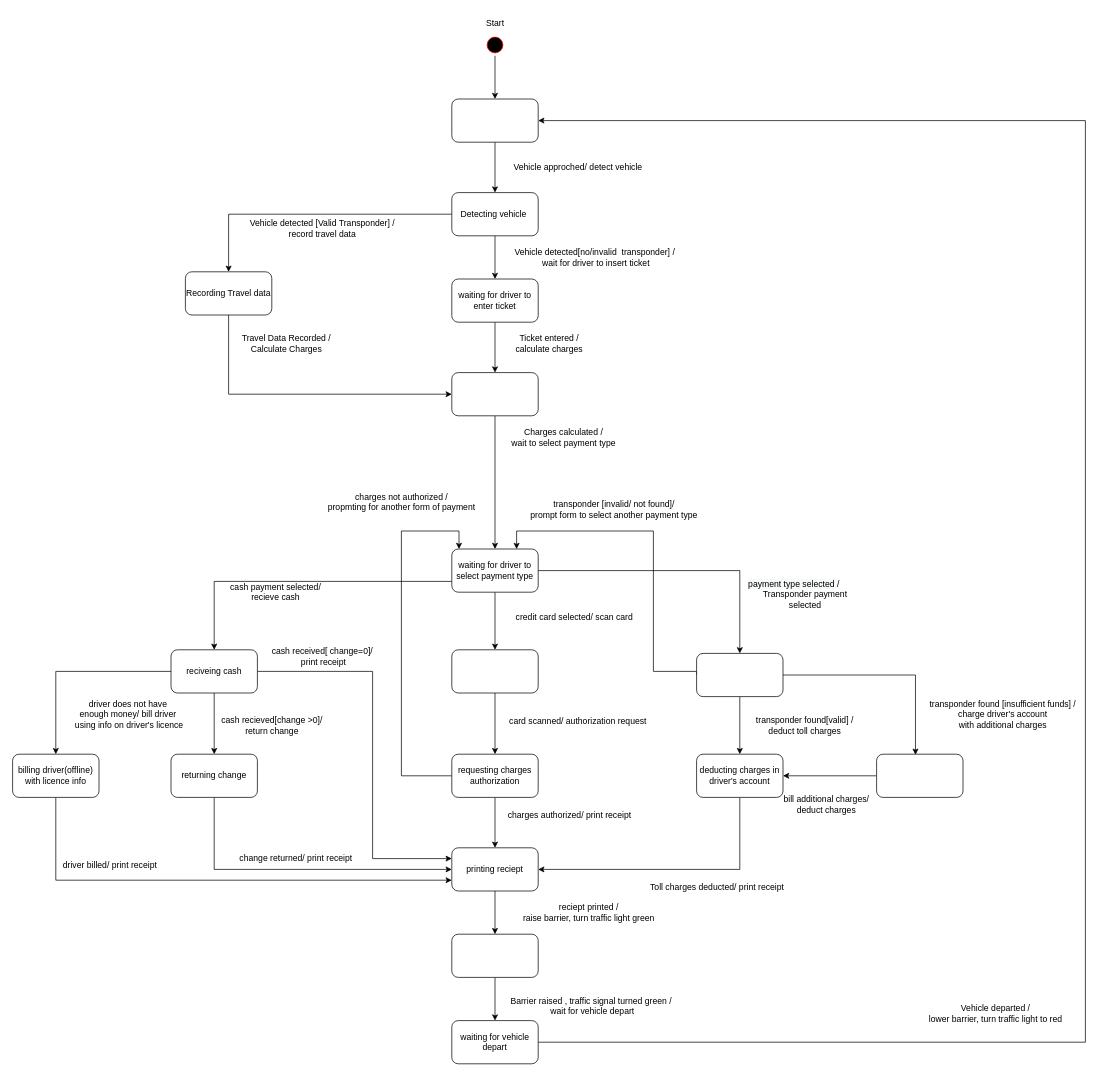
Some shapes in this 1104 by 1076 pixel diagram are drawn without their labels. Each missing label, with the centre of its shape:
Calculating charges: point (494, 394)
Idle Toolboth open Traffic light is red barrier down: point (494, 120)
Raising barrier, Turning light green: point (494, 955)
scanning credit card: point (494, 671)
scanning transponder: point (739, 675)
toll and additional charges are billing to driver's account: point (919, 775)
